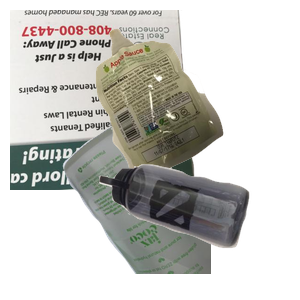glass: (60, 120, 300, 300)
paper: (10, 10, 201, 190)
plastic: (97, 162, 300, 300)
trash: (93, 26, 300, 200)
